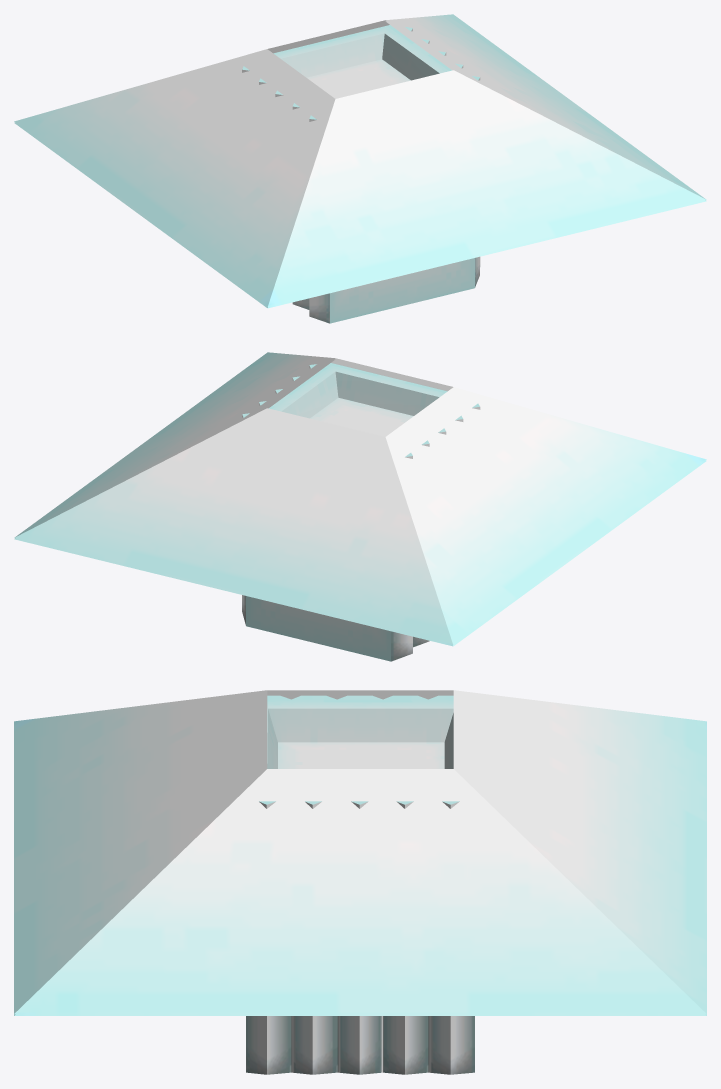
File: frn_all_streetlamp_sm_s1_l0.fbx
3 renders of one model, top to bottom at view 1: azimuth 30°, elevation 25°; view 2: azimuth 150°, elevation 25°; view 3: azimuth 270°, elevation 25°, orthographic. The views are drawn at different scales.
Visible parts, largest first — view 1: mesh_node; view 2: mesh_node; view 3: mesh_node.
Part boxes in pixels (<box>): mesh_node: <box>14,14,706,323</box>; mesh_node: <box>14,352,706,661</box>; mesh_node: <box>14,690,706,1074</box>.
Size of the model in its own units: 4.54 by 2.13 by 4.54.
